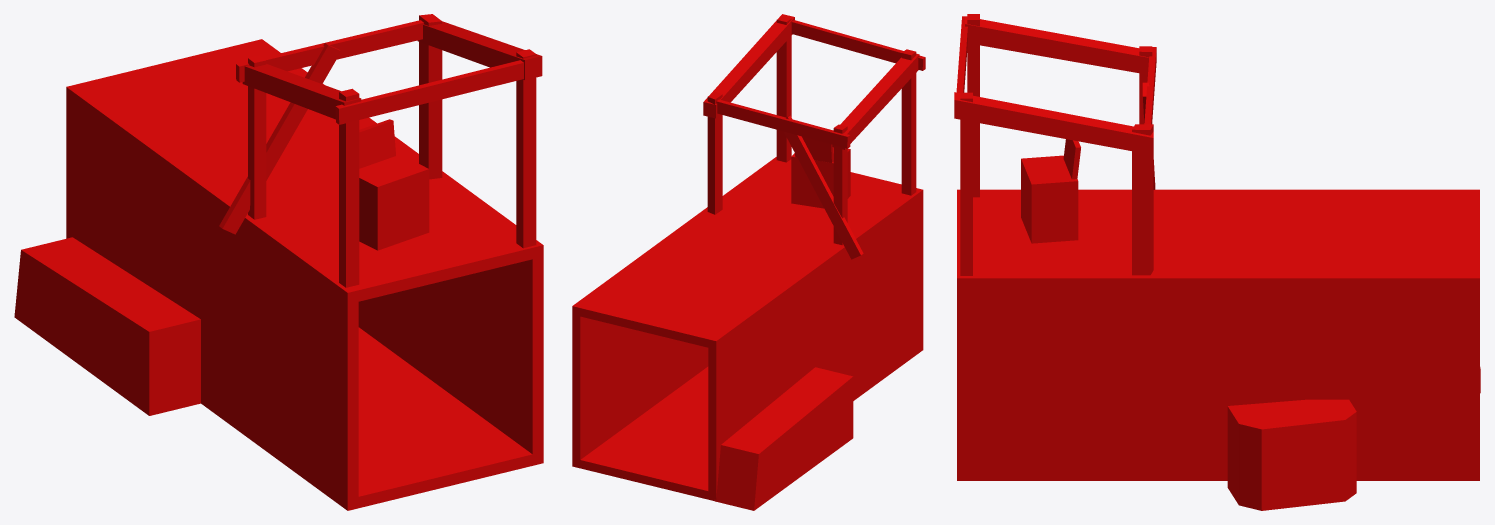
Rendered from SM_Prop_Wall_Junk_Container_Entrance_01_Collision.fbx.
3 renders of one model, left to right at view 1: azimuth 30°, elevation 25°; view 2: azimuth 150°, elevation 25°; view 3: azimuth 270°, elevation 25°, orthographic. The views are drawn at different scales.
Visible parts, largest first — view 1: SM_Prop_Wall_Junk_Container_Entrance_01_Collision; view 2: SM_Prop_Wall_Junk_Container_Entrance_01_Collision; view 3: SM_Prop_Wall_Junk_Container_Entrance_01_Collision.
Boxes of the visible parts, x1,y1,x2,y2 form: SM_Prop_Wall_Junk_Container_Entrance_01_Collision: [14, 14, 543, 510]; SM_Prop_Wall_Junk_Container_Entrance_01_Collision: [572, 14, 925, 510]; SM_Prop_Wall_Junk_Container_Entrance_01_Collision: [954, 14, 1480, 510].
Bounding box in the file's own units: 390 × 486 × 610.
